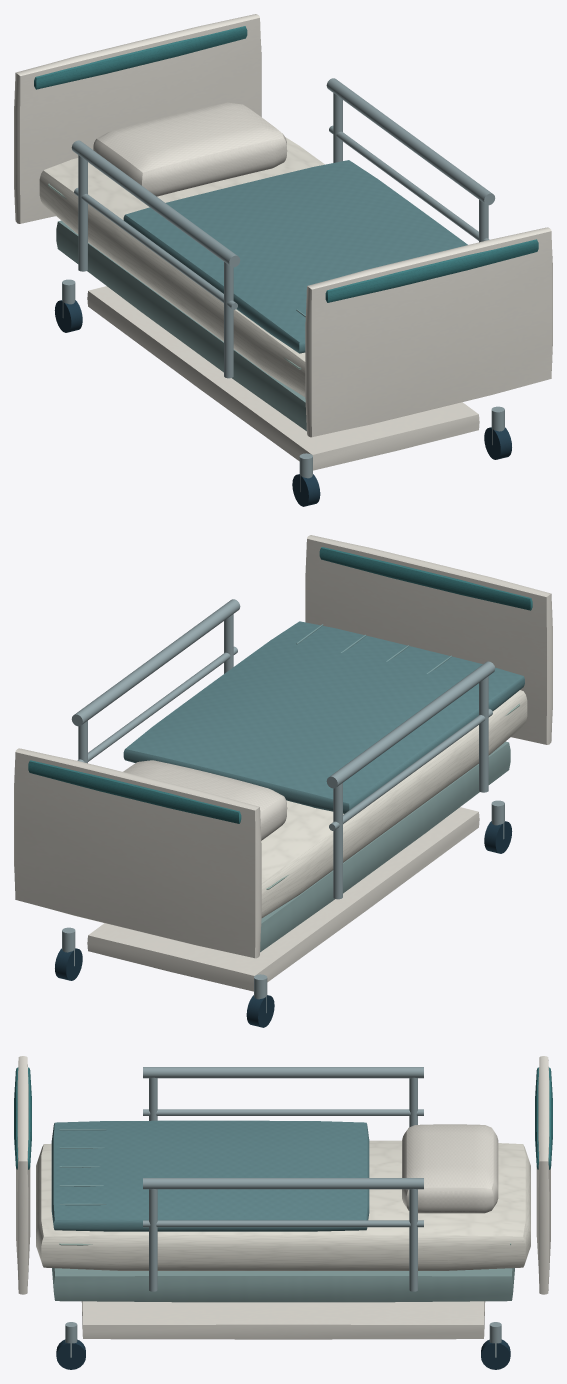
The model's file is bed.glb.
3 views of the same model, one above another, from view 1: azimuth 30°, elevation 25°; view 2: azimuth 150°, elevation 25°; view 3: azimuth 270°, elevation 25° (orthographic). The views are drawn at different scales.
Parts seen in each view (by area): view 1: bed; view 2: bed; view 3: bed.
Boxes of the visible parts, x1,y1,x2,y2 form: bed: [14, 14, 552, 506]; bed: [14, 535, 552, 1027]; bed: [14, 1056, 552, 1369].
Bounding box in the file's own units: 1.05 × 0.927 × 2.07.
Materials: 32 (32 with a texture image).
